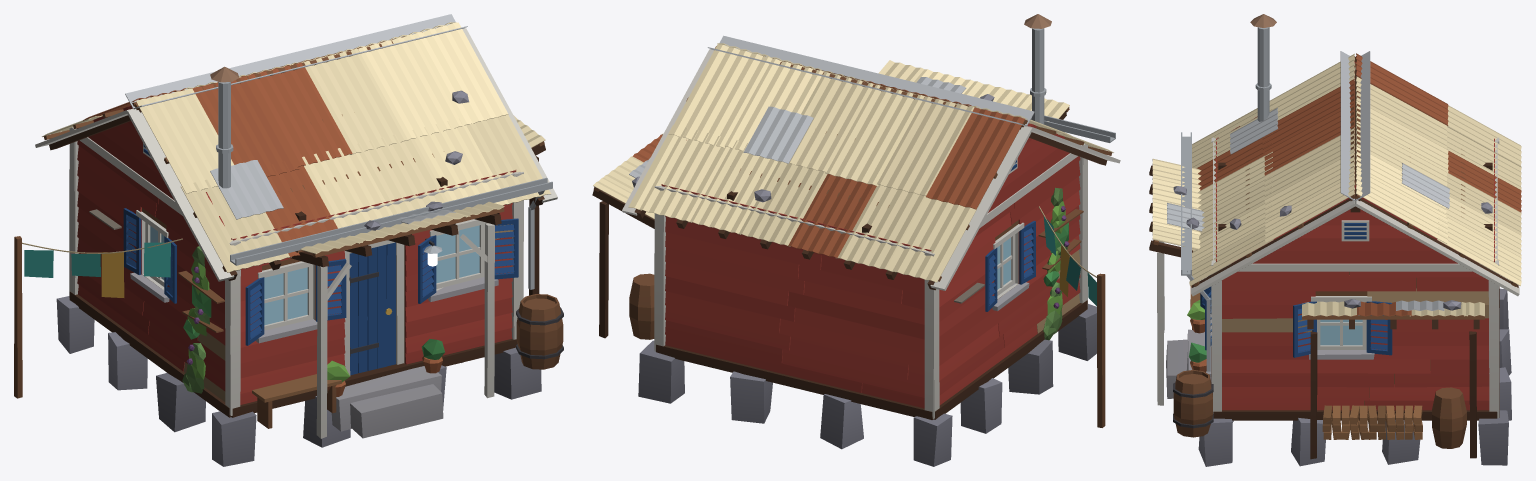
3 renders of one model, left to right at view 1: azimuth 30°, elevation 25°; view 2: azimuth 150°, elevation 25°; view 3: azimuth 270°, elevation 25°, orthographic. The views are drawn at different scales.
Parts seen in each view (by area): view 1: H19_ROOF, H19_WALL_S, H19_WALL_W, H19_BASE, H19_DOOR_main, H19_WALL_E; view 2: H19_ROOF, H19_WALL_N, H19_WALL_W, H19_BASE, H19_WALL_E, H19_WALL_S; view 3: H19_WALL_E, H19_ROOF, H19_WALL_S, H19_BASE, H19_WALL_N.
Part boxes in pixels (bbox=[...]): H19_ROOF: bbox=[35, 14, 557, 281]; H19_WALL_S: bbox=[230, 170, 563, 438]; H19_WALL_W: bbox=[14, 106, 239, 415]; H19_BASE: bbox=[56, 291, 541, 466]; H19_DOOR_main: bbox=[349, 242, 395, 375]; H19_WALL_E: bbox=[512, 116, 545, 339]; H19_ROOF: bbox=[622, 14, 1120, 290]; H19_WALL_N: bbox=[654, 184, 939, 418]; H19_WALL_W: bbox=[925, 123, 1105, 427]; H19_BASE: bbox=[638, 300, 1096, 466]; H19_WALL_E: bbox=[592, 133, 686, 349]; H19_WALL_S: bbox=[878, 60, 1115, 305]; H19_WALL_E: bbox=[1212, 181, 1499, 459]; H19_ROOF: bbox=[1189, 14, 1521, 296]; H19_WALL_S: bbox=[1149, 132, 1221, 437]; H19_BASE: bbox=[1166, 286, 1511, 466]; H19_WALL_N: bbox=[1488, 137, 1499, 417].
Bounding box in the file's own units: 7.2 × 5.25 × 5.38.
